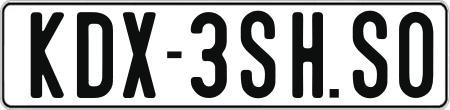0: (397, 9, 432, 98)
3: (191, 9, 227, 97)
D: (74, 12, 115, 100)
H: (292, 11, 326, 103)
K: (31, 10, 64, 99)
S: (240, 11, 277, 98), (352, 8, 386, 97)
X: (122, 12, 157, 99)
